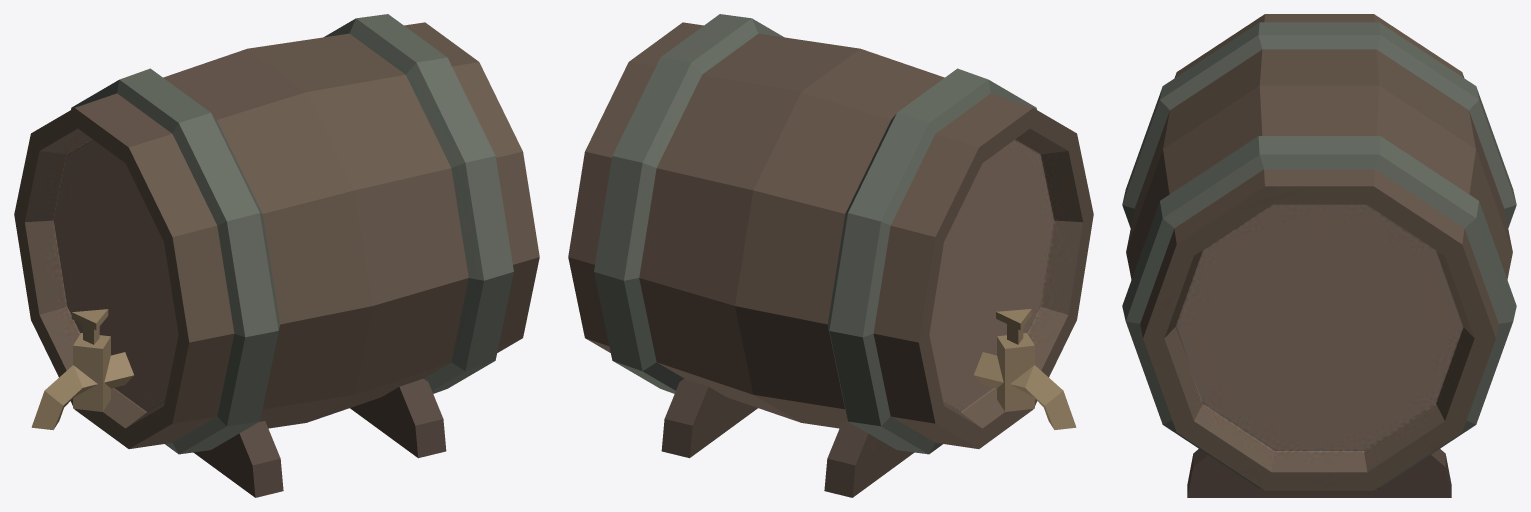
The picture shows the model from 3 angles, left to right: view 1: azimuth 30°, elevation 25°; view 2: azimuth 150°, elevation 25°; view 3: azimuth 270°, elevation 25°; orthographic projection.
Parts seen in each view (by area): view 1: keg; view 2: keg; view 3: keg.
Boxes of the visible parts, x1,y1,x2,y2 form: keg: (14, 14, 539, 497); keg: (568, 14, 1093, 497); keg: (1122, 14, 1516, 497).
Size of the model in its own units: 2 by 1.64 by 1.61.
Materials: 1 (1 with a texture image).
